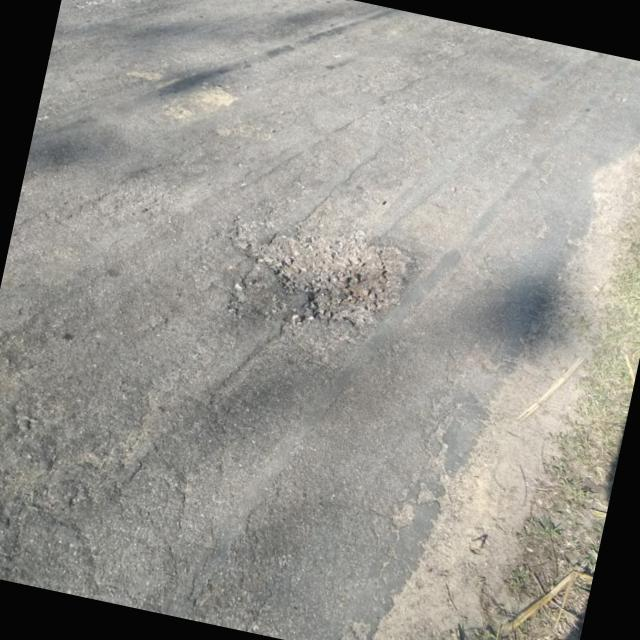Lubang: (234, 222, 410, 325)
